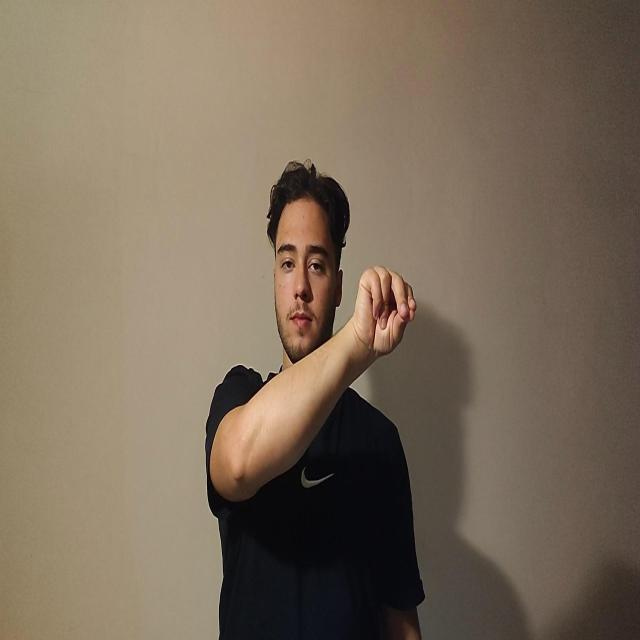no: (352, 264, 417, 359)
